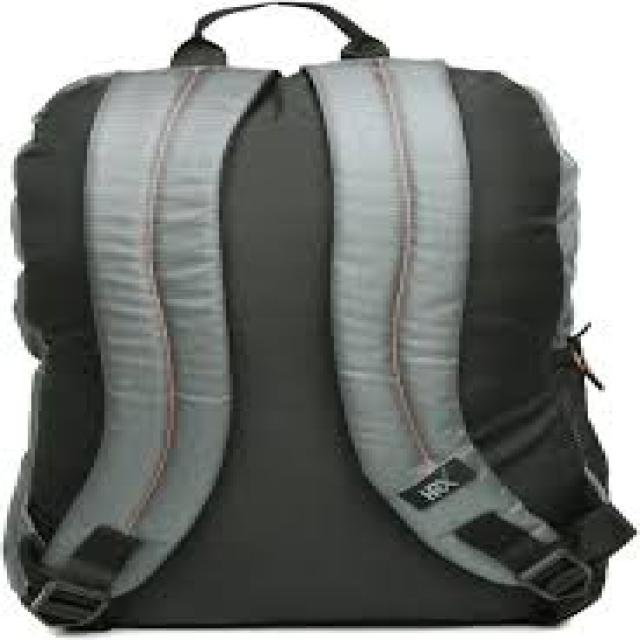backpack: (1, 1, 637, 629)
